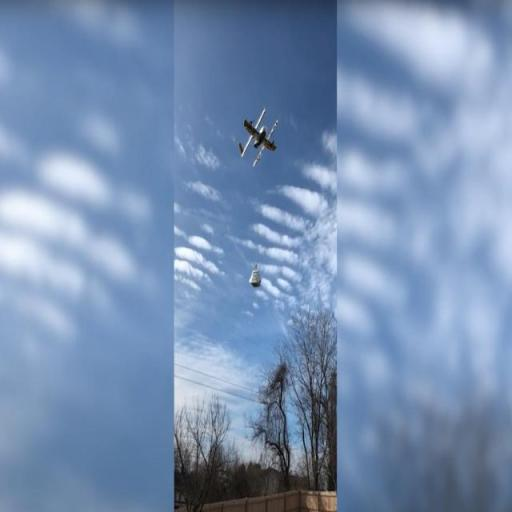uav: (236, 106, 282, 170)
